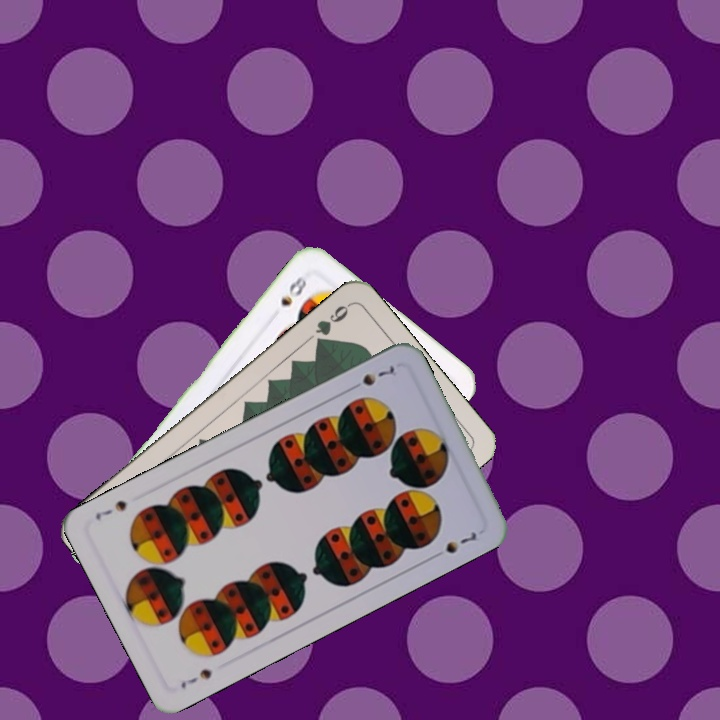G9: (311, 299, 353, 350)
S7: (345, 361, 401, 393), (176, 665, 215, 692)
S8: (276, 268, 313, 309)
